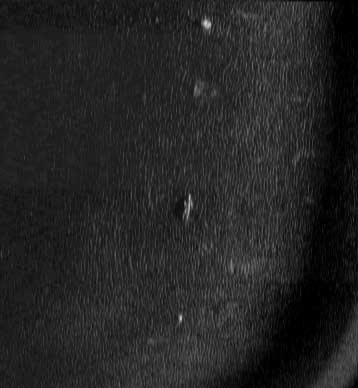man: (172, 191, 196, 225)
